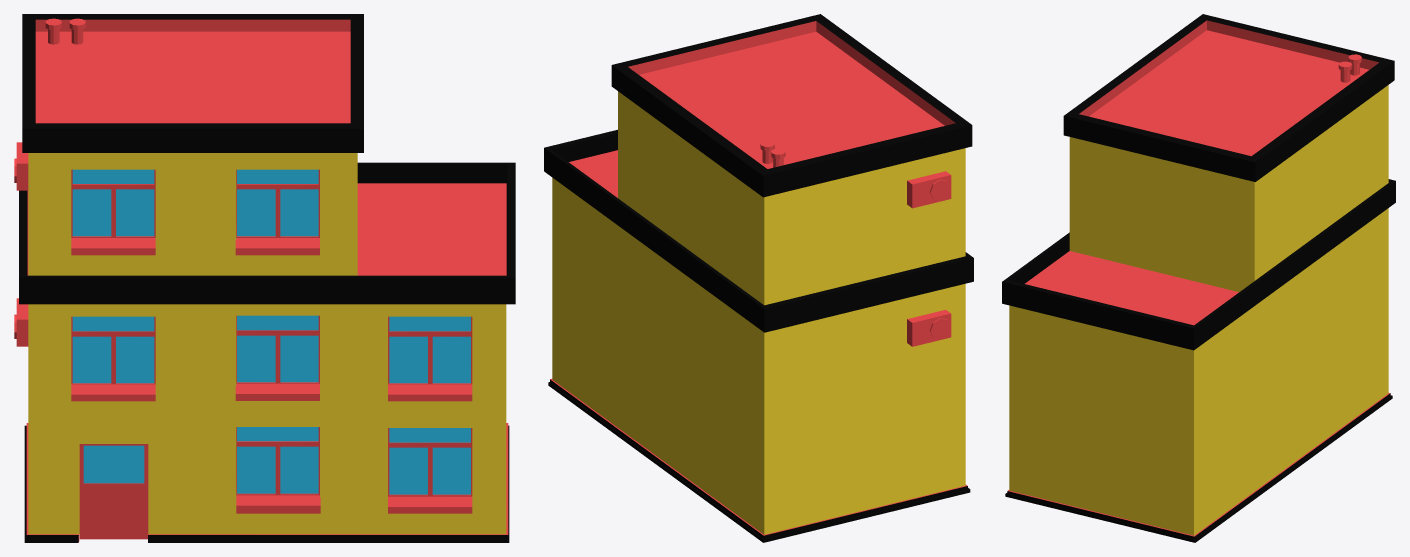
Rendered from Toy68.fbx.
3 renders of one model, left to right at view 1: azimuth 30°, elevation 25°; view 2: azimuth 150°, elevation 25°; view 3: azimuth 270°, elevation 25°, orthographic. The views are drawn at different scales.
Visible parts, largest first — view 1: Toy68; view 2: Toy68; view 3: Toy68.
Boxes of the visible parts, bbox=[...] form: Toy68: bbox=[14, 14, 515, 542]; Toy68: bbox=[544, 14, 973, 542]; Toy68: bbox=[1002, 14, 1395, 542].
Bounding box in the file's own units: 0.2069 × 0.1704 × 0.1769.
